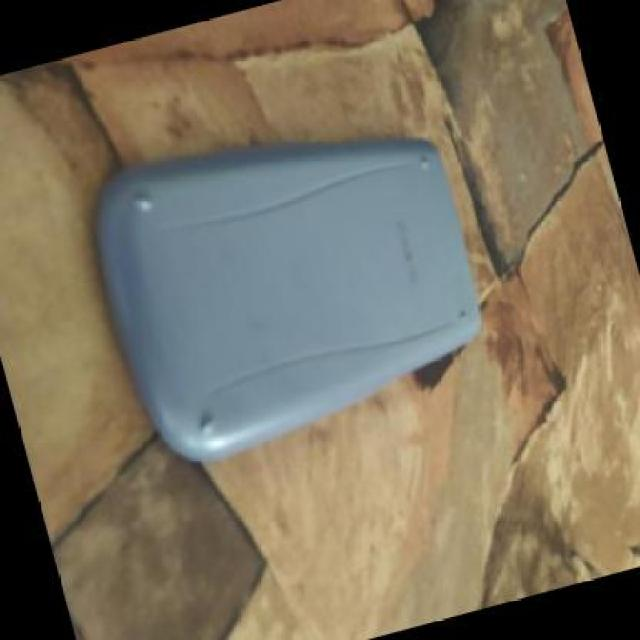Calculator: (72, 78, 517, 492)
